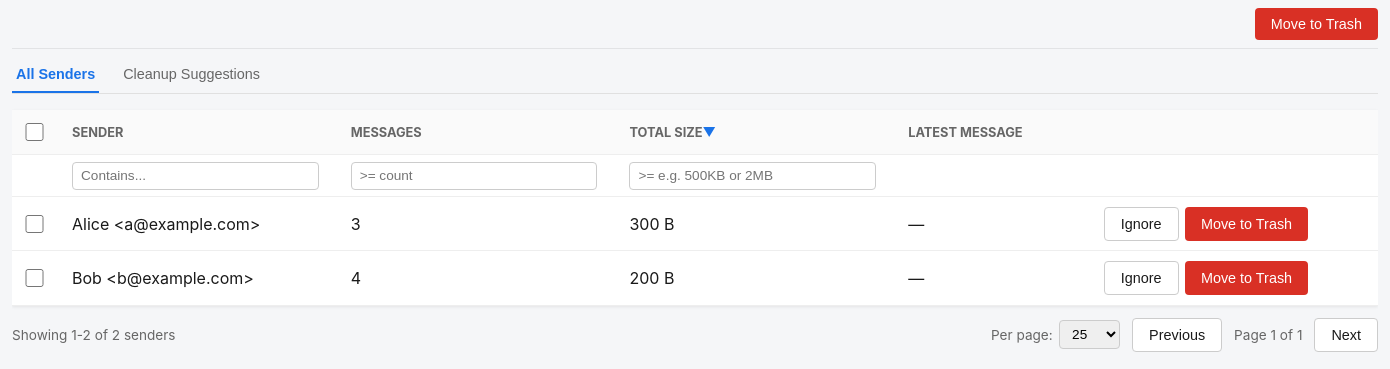
Test: Move to Trash toolbar › is disabled until at least one sender is selected, and enables once one is
Expected: the button with aria-label "Move selected senders to Trash" is disabled, [1255,8,1378,40]
Step 1. Click the checkbox named "Select Alice" → (34, 224), box [25,214,44,233]
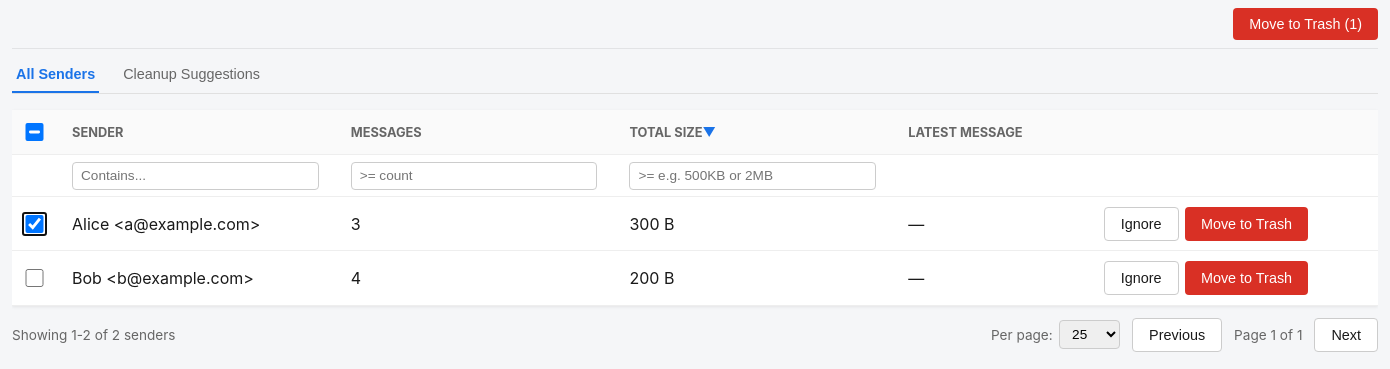
Expected: the button with aria-label "Move selected senders to Trash" is enabled, [1233,8,1378,40]
Expected: the button with aria-label "Move selected senders to Trash" reads "Move to Trash (1)", [1233,8,1378,40]
Step 2. Click the checkbox named "Select Alice" → (34, 224), box [25,214,44,233]
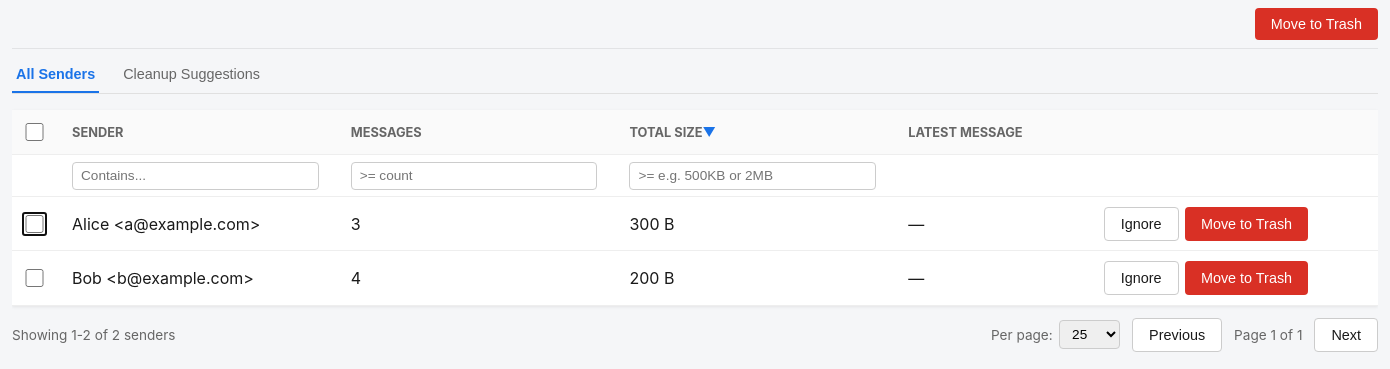
Expected: the button with aria-label "Move selected senders to Trash" is disabled, [1255,8,1378,40]
